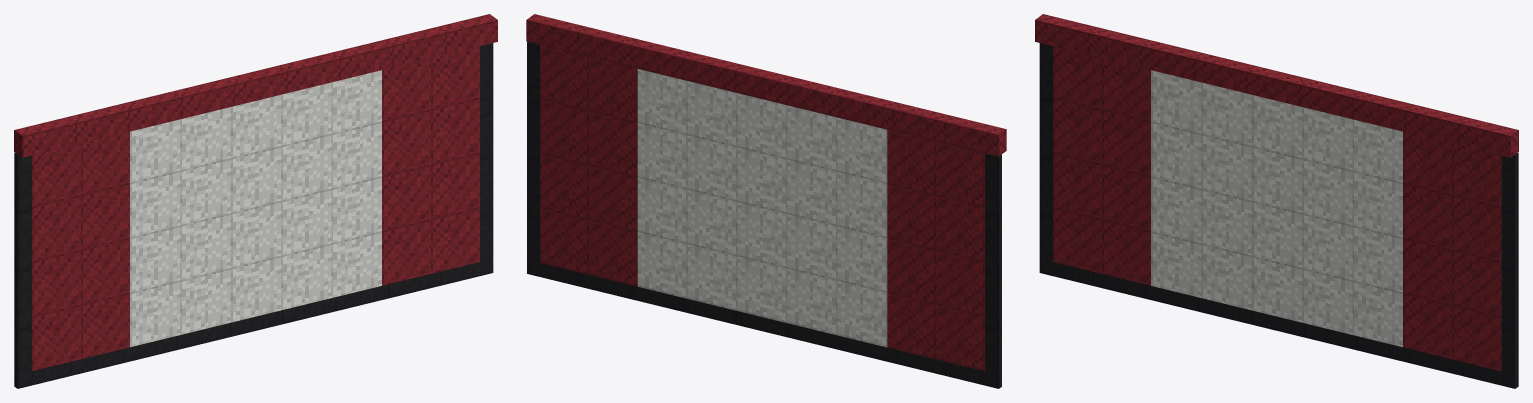
The model's file is cinemaScreen_0.glb.
3 renders of one model, left to right at view 1: azimuth 30°, elevation 25°; view 2: azimuth 150°, elevation 25°; view 3: azimuth 330°, elevation 25°, orthographic.
Parts seen in each view (by area): view 1: cinemaScreen_0; view 2: cinemaScreen_0; view 3: cinemaScreen_0.
Part boxes in pixels (x1,y1,x2,y2): cinemaScreen_0: (14, 14, 497, 388); cinemaScreen_0: (526, 14, 1006, 388); cinemaScreen_0: (1035, 14, 1518, 388).
Size of the model in its own units: 4.25 by 2.19 by 0.125.
Materials: 1 (1 with a texture image).
